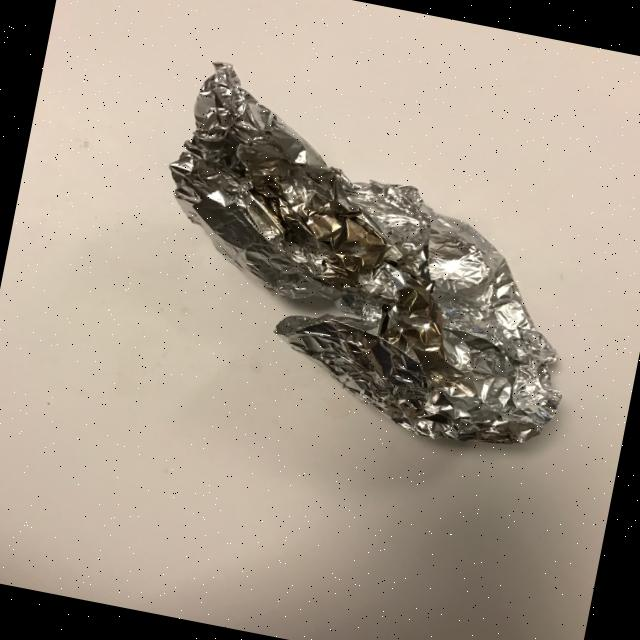metal: (128, 55, 612, 462)
